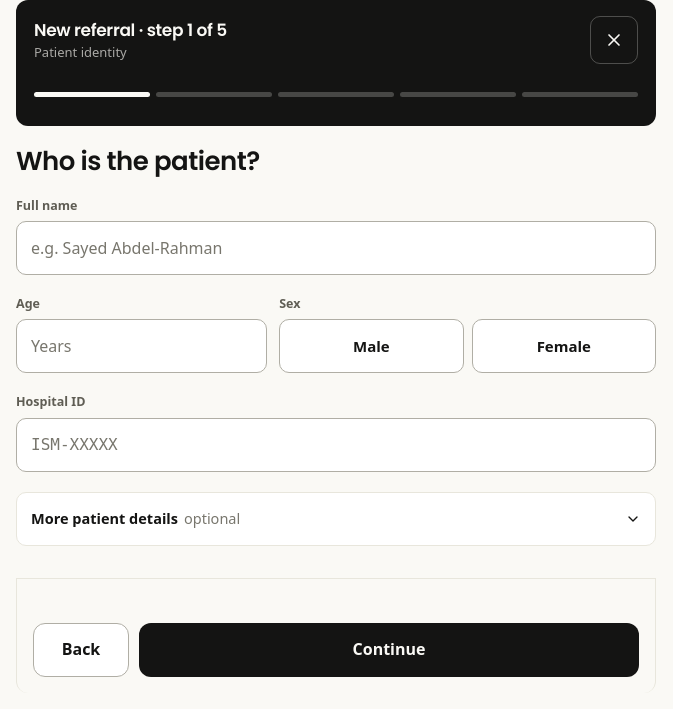
Scenario: Tier 5 UI Adversarial Suite - Ismailia Health Connect › 8. NewReferralPage White-Box Validation, Drafts & Offline Hardening › clamps GCS vital sign input between 3 and 15
Click the button named "Step 2:".
click(214, 94)  # box [156,70,272,118]
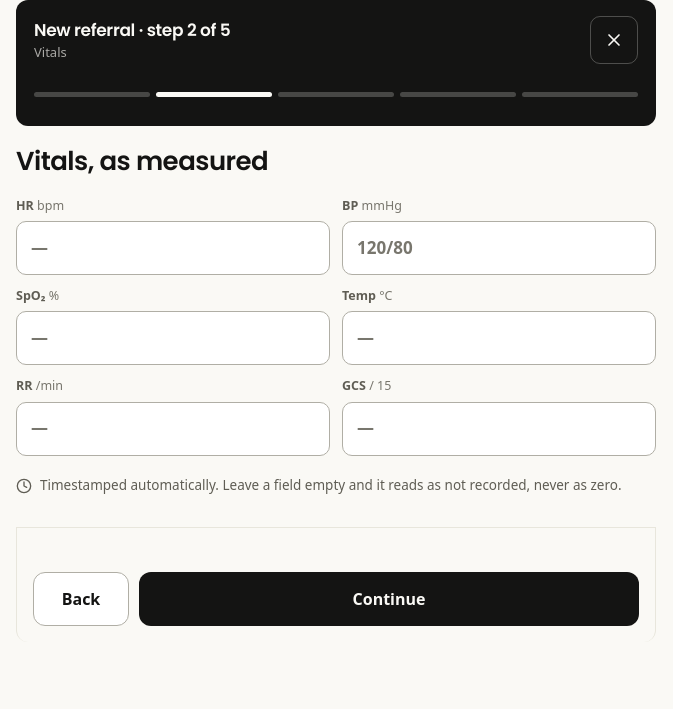
Type "1" into the number field labelled "GCS / 15".
click(499, 429); type("1")  # box [342,402,656,456]
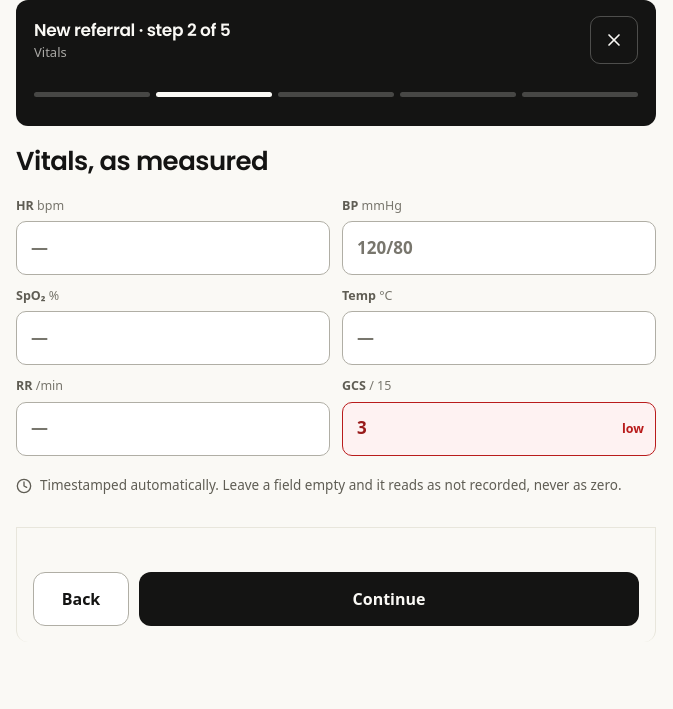
Check: the number field labelled "GCS / 15" holds "3"
Replace the text in the number field labelled "GCS / 15" with "20" at point(499, 429), box [342,402,656,456]
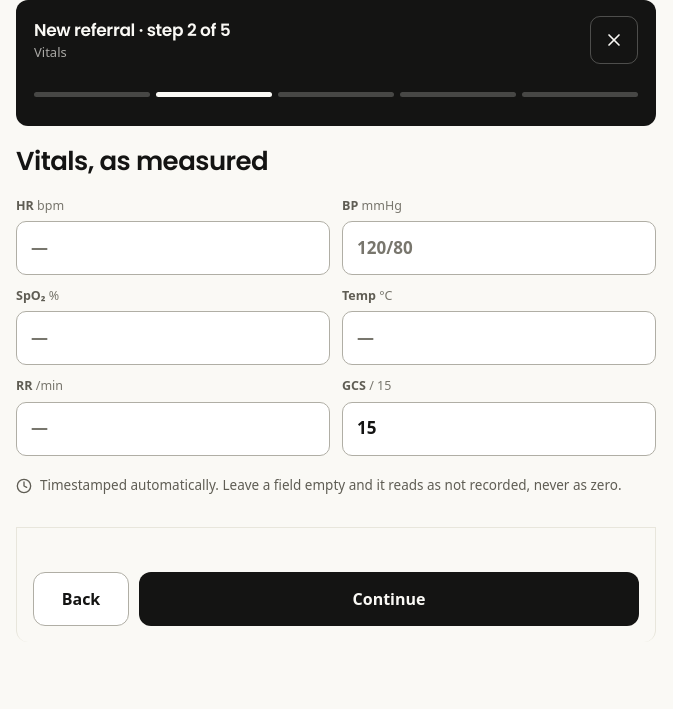
Check: the number field labelled "GCS / 15" holds "15", box [342,402,656,456]
